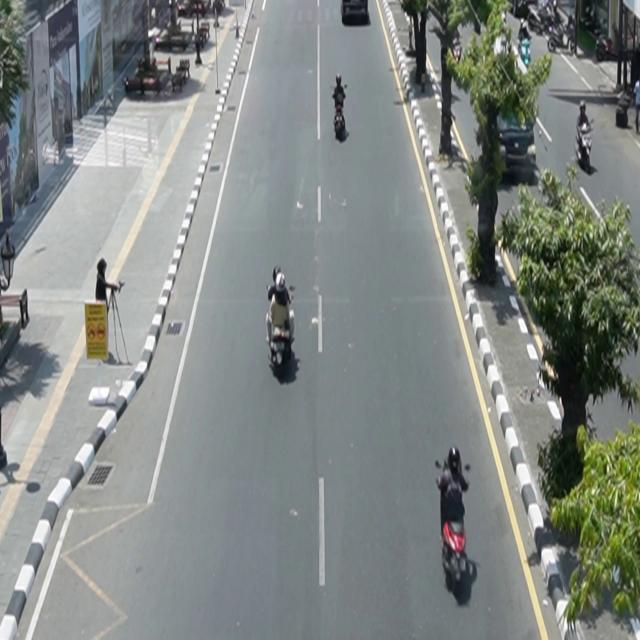car: (341, 1, 369, 25)
